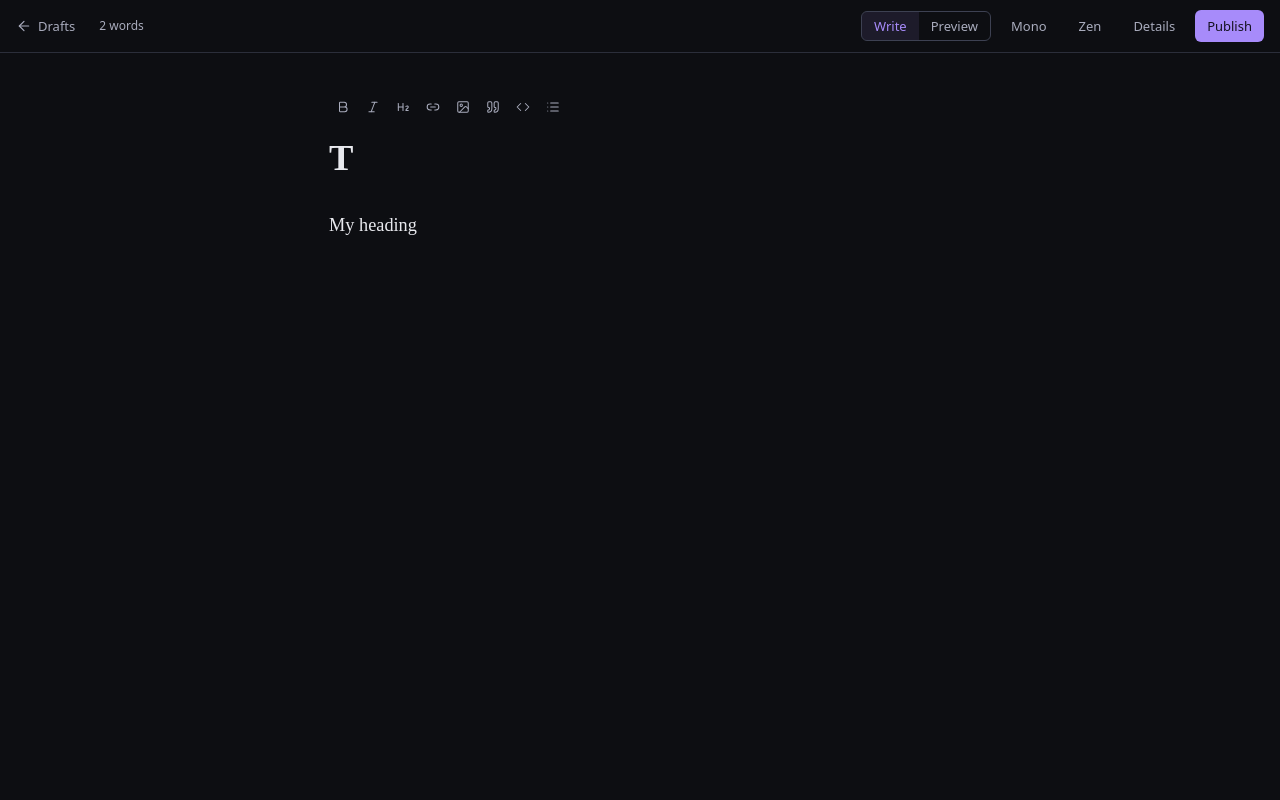
ArticleEditor › puts a heading mark at the start of the line, not at the caret
The width and height of the screenshot is (1280, 800).
Click the button named "Heading" at x=403, y=107, box [389,93,417,121]
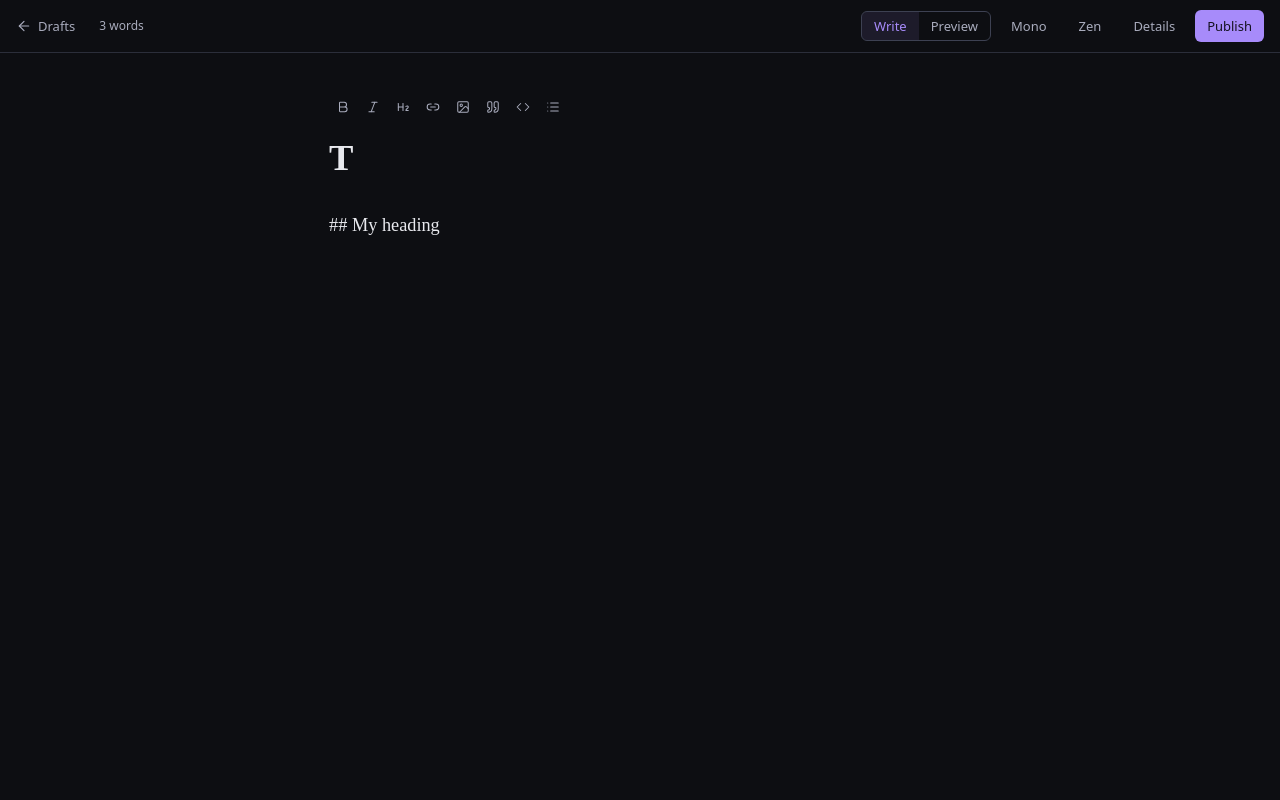
Expected: the text box named "Body" holds "## My heading", [329,210,951,594]
